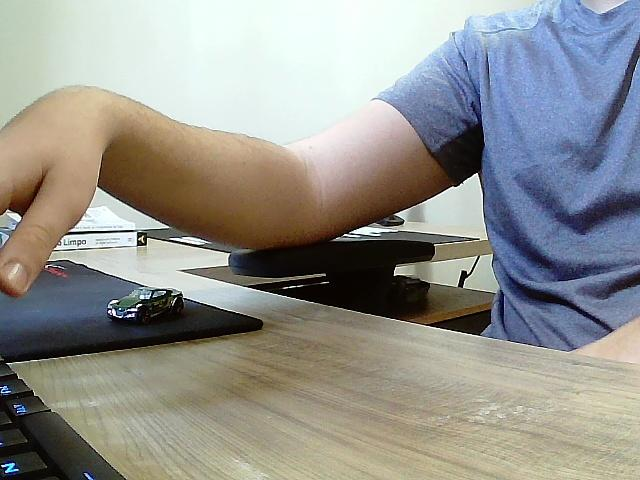Carro: (107, 288, 185, 326)
